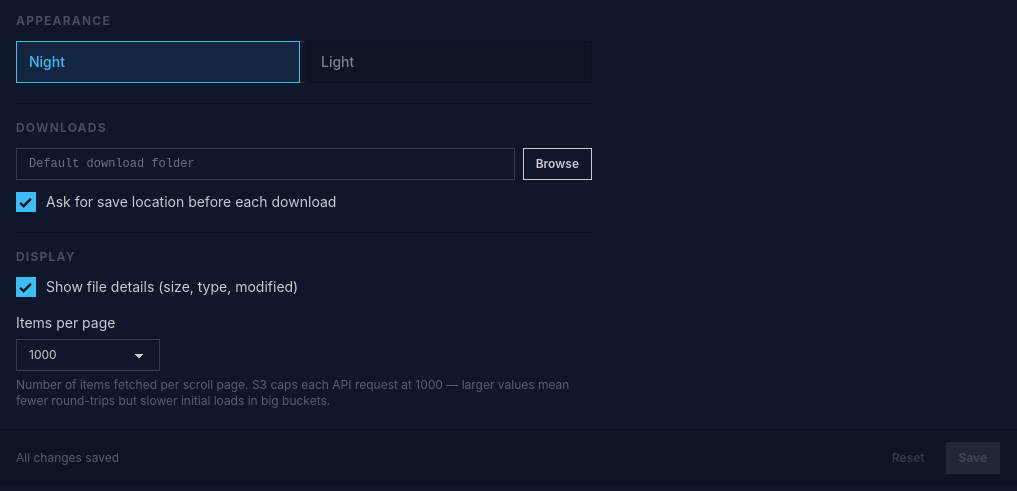
Test: GeneralSection › picks the download folder with the folder dialog
Click the button "Browse" at coordinates (557, 164), box [523, 148, 592, 180]
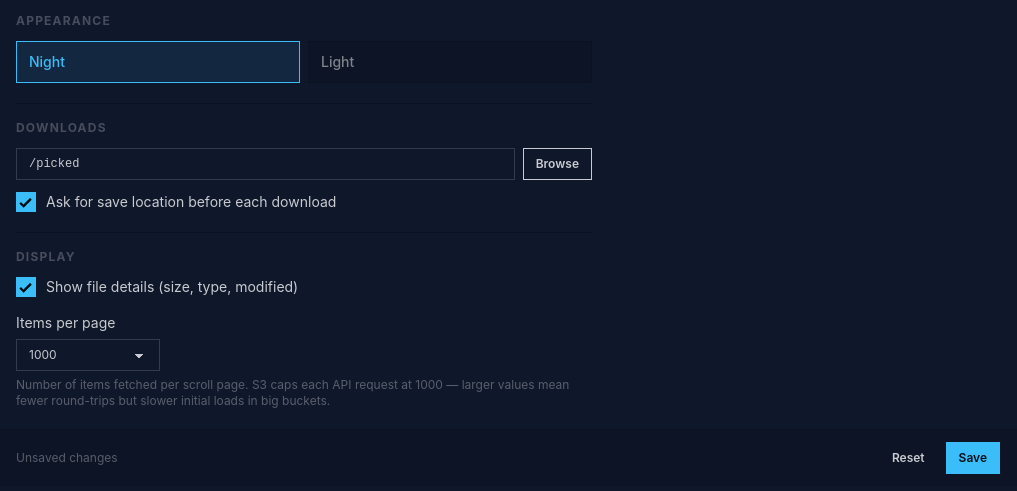
Check: the field with placeholder "Default download folder" holds "/picked", box [16, 148, 515, 180]
